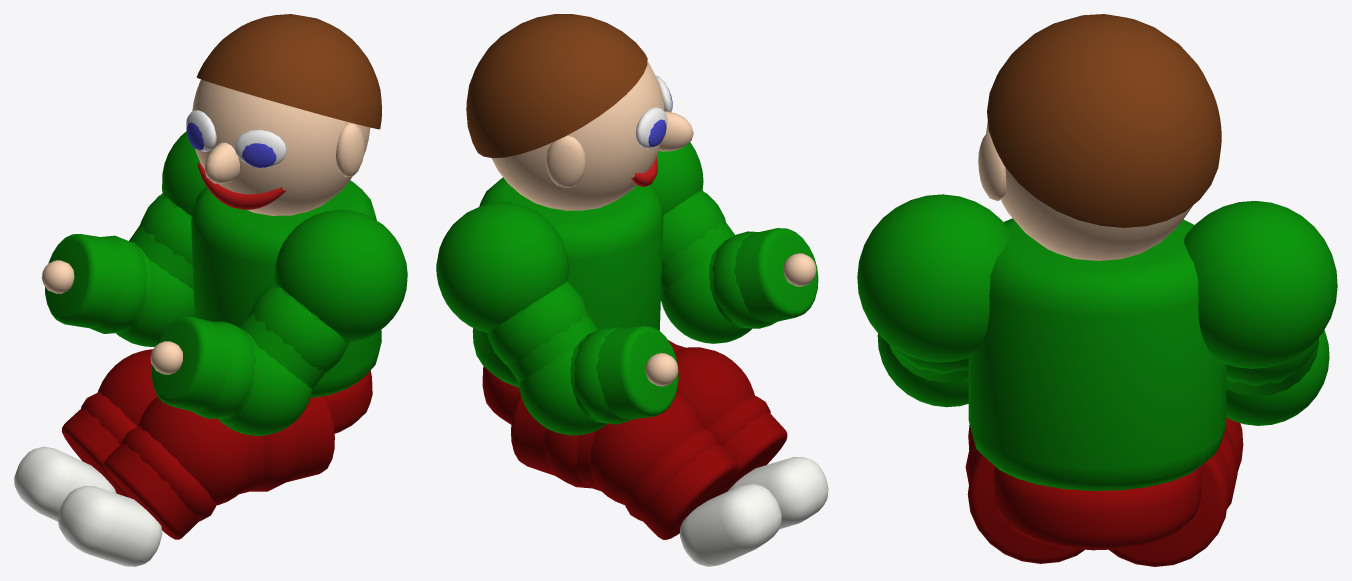
The picture shows the model from 3 angles, left to right: view 1: azimuth 30°, elevation 25°; view 2: azimuth 150°, elevation 25°; view 3: azimuth 270°, elevation 25°; orthographic projection. The views are drawn at different scales.
Visible parts, largest first — view 1: hair, torso, shoulder_ball_n, head, knee_ball_n, shoe_n, farm_n, farm_f, elbow_ball_n, shoe_f, uarm_bulge_n, shin_n (+22 smaller); view 2: hair, torso, shoulder_ball_f, head, knee_ball_f, farm_n, shoe_f, farm_f, shin_f, knee_ball_n, uarm_bulge_f, elbow_ball_n (+19 smaller); view 3: torso, hair, shoulder_ball_f, shoulder_ball_n, pelvis, head, thigh_f, thigh_n, elbow_ball_f, elbow_ball_n, uarm_bulge_f, ear (+3 smaller).
Boxes of the visible parts, x1,y1,x2,y2 form: hair: [196, 14, 381, 129]; torso: [191, 180, 381, 397]; shoulder_ball_n: [274, 209, 407, 342]; head: [192, 79, 370, 215]; knee_ball_n: [138, 396, 249, 505]; shoe_n: [58, 486, 162, 566]; farm_n: [151, 316, 259, 418]; farm_f: [45, 234, 151, 332]; elbow_ball_n: [218, 347, 312, 435]; shoe_f: [14, 446, 116, 521]; uarm_bulge_n: [249, 283, 348, 373]; shin_n: [103, 439, 198, 539]; hair: [466, 14, 647, 158]; torso: [472, 177, 663, 387]; shoulder_ball_f: [436, 202, 568, 332]; head: [491, 61, 664, 210]; knee_ball_f: [590, 391, 704, 504]; farm_n: [709, 228, 818, 328]; shoe_f: [680, 483, 781, 566]; farm_f: [570, 326, 678, 422]; shin_f: [642, 429, 738, 539]; knee_ball_n: [674, 347, 754, 428]; uarm_bulge_f: [487, 282, 588, 366]; elbow_ball_n: [661, 254, 752, 343]; torso: [968, 218, 1226, 490]; hair: [987, 14, 1221, 227]; shoulder_ball_f: [1184, 201, 1337, 368]; shoulder_ball_n: [857, 194, 1010, 362]; pelvis: [993, 466, 1201, 550]; head: [986, 120, 1192, 260]; thigh_f: [1109, 427, 1232, 566]; thigh_n: [967, 450, 1084, 563]; elbow_ball_f: [1226, 330, 1329, 425]; elbow_ball_n: [877, 333, 968, 407]; uarm_bulge_f: [1226, 337, 1318, 386]; ear: [978, 132, 1006, 200].
Bounding box in the file's own units: 0.7724 × 1.09 × 0.7874.
